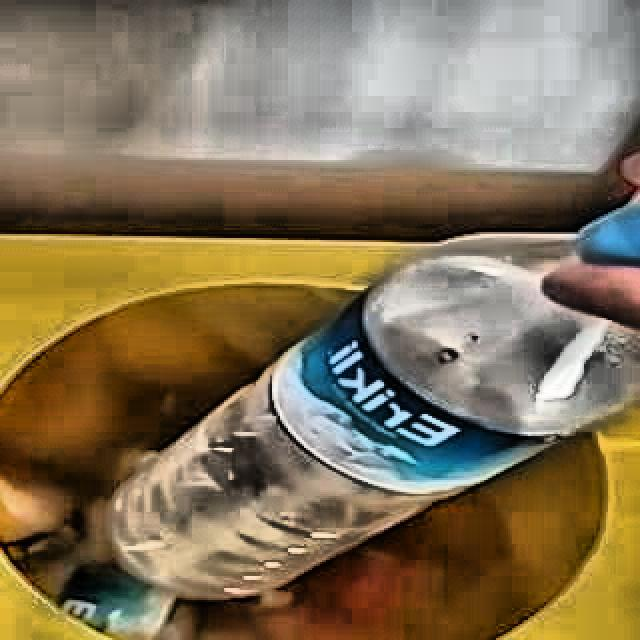plastic: (109, 204, 640, 600)
